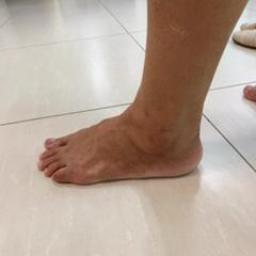Lateral View -Left Foot-: (26, 80, 218, 204)
